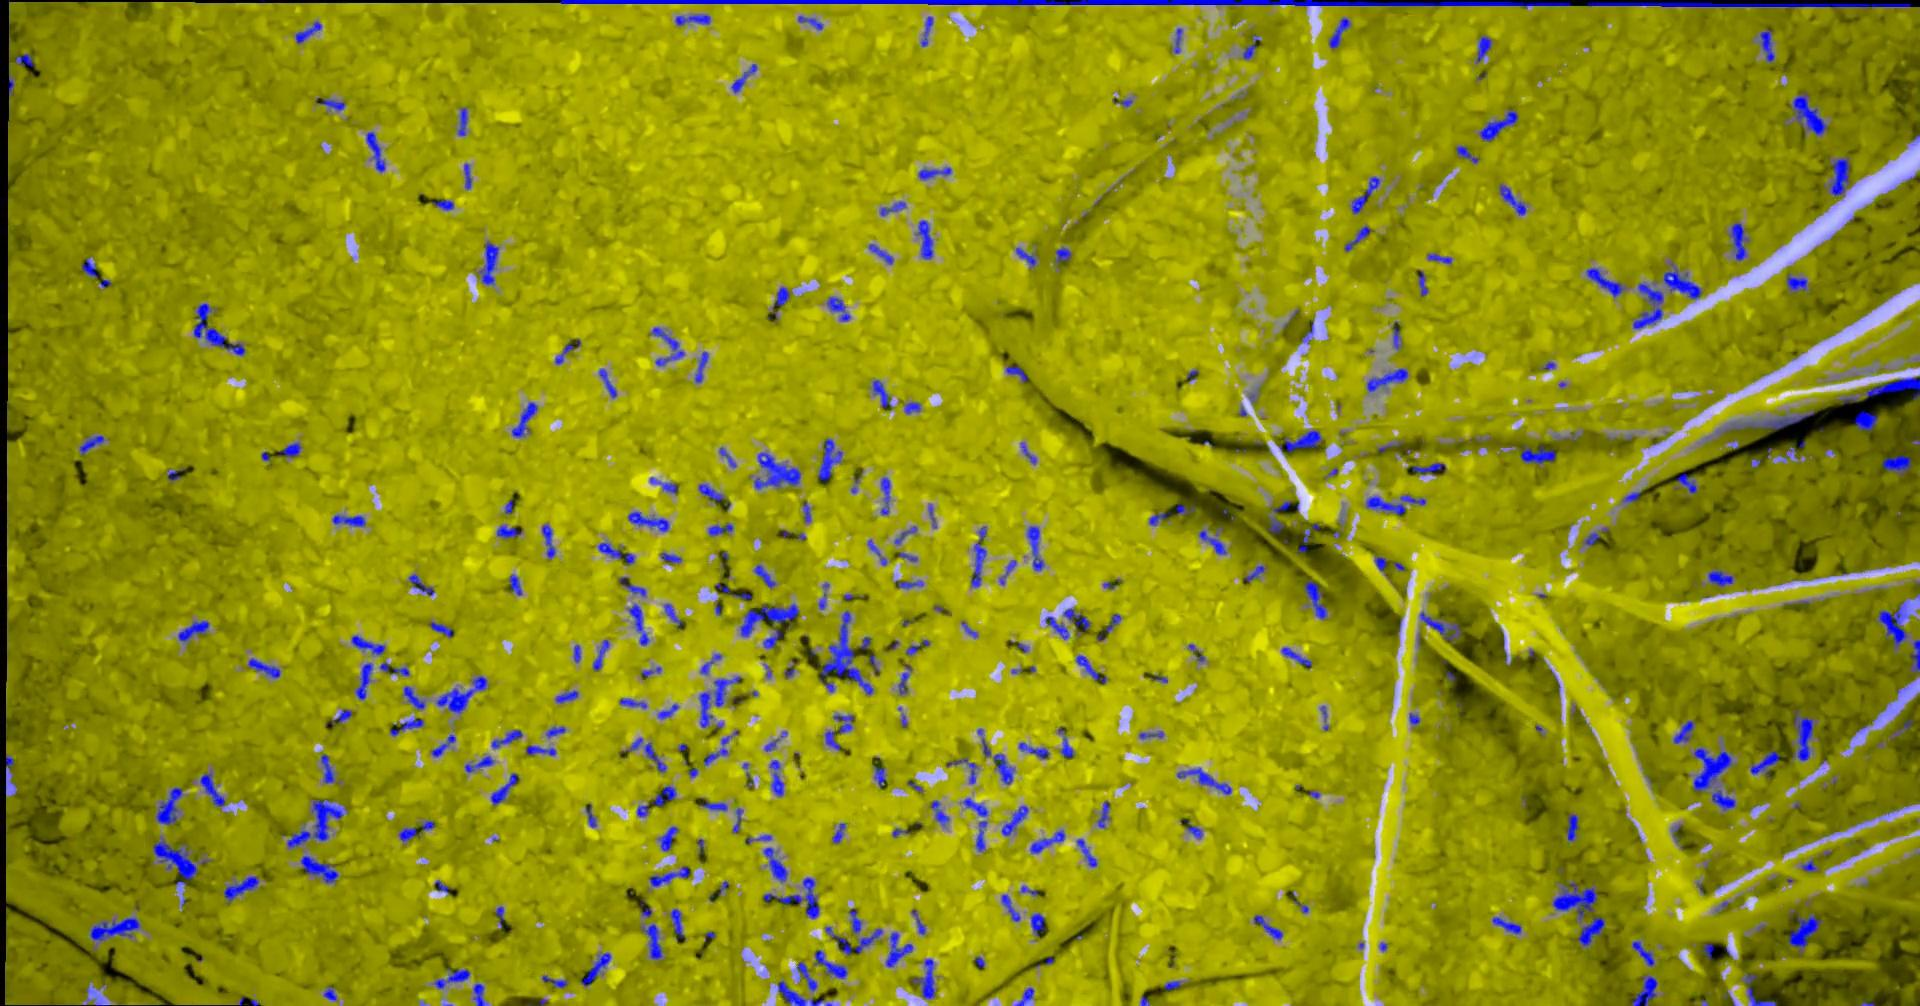ant: (286, 799, 343, 847), (193, 304, 244, 354), (740, 603, 797, 648), (762, 876, 818, 918), (698, 676, 740, 727), (977, 728, 1015, 784), (152, 837, 197, 884), (436, 674, 486, 713), (1726, 410, 1815, 431), (1693, 747, 1732, 791), (1552, 882, 1596, 921), (753, 452, 800, 489), (824, 926, 883, 955), (1792, 91, 1827, 135), (1787, 912, 1821, 955), (1176, 767, 1230, 794), (623, 737, 665, 771), (1877, 601, 1907, 648), (1632, 283, 1663, 328), (1418, 611, 1462, 643), (963, 796, 987, 851), (1865, 375, 1919, 399), (651, 326, 684, 365), (1585, 267, 1625, 297), (1365, 494, 1425, 514), (1479, 109, 1517, 141), (1790, 708, 1813, 760), (1663, 268, 1702, 298), (777, 981, 824, 1005), (89, 917, 138, 940), (817, 438, 842, 481), (1351, 175, 1379, 213), (300, 855, 338, 883), (1743, 973, 1777, 1005), (824, 714, 853, 749), (155, 786, 182, 824), (580, 951, 610, 986), (814, 949, 847, 978), (223, 875, 258, 903), (510, 401, 537, 437), (1366, 368, 1407, 391), (970, 526, 985, 587), (912, 958, 935, 998), (885, 932, 912, 967), (1277, 431, 1322, 451), (1303, 579, 1326, 619), (199, 772, 225, 807), (1750, 749, 1779, 779), (1498, 184, 1526, 215), (1076, 655, 1106, 683), (490, 774, 517, 805), (1030, 829, 1064, 854), (763, 847, 787, 882), (649, 866, 690, 887), (479, 241, 498, 285), (703, 735, 731, 765), (1577, 916, 1604, 946), (629, 511, 668, 531), (629, 603, 648, 645), (597, 542, 634, 564), (1197, 526, 1225, 554), (1001, 805, 1027, 835), (1829, 158, 1849, 196), (1026, 525, 1043, 570), (1630, 976, 1656, 1005), (946, 758, 977, 782), (1730, 222, 1749, 260), (366, 131, 383, 171), (641, 923, 662, 959), (1343, 225, 1370, 251), (554, 338, 580, 365), (1253, 915, 1283, 939), (1519, 445, 1556, 464), (434, 968, 469, 988), (177, 620, 208, 641), (248, 657, 279, 678), (731, 64, 756, 91), (1297, 523, 1319, 553), (1881, 453, 1911, 475), (1280, 647, 1310, 668), (350, 635, 385, 654), (1328, 17, 1349, 48), (1096, 614, 1120, 640), (1630, 940, 1655, 967), (916, 220, 932, 258), (825, 296, 850, 321), (1063, 608, 1090, 631), (389, 718, 423, 735), (356, 662, 372, 699), (1076, 838, 1097, 866), (796, 962, 817, 991), (491, 729, 522, 748), (295, 22, 321, 43), (771, 287, 789, 319), (430, 734, 455, 757), (618, 575, 645, 596), (592, 639, 610, 669), (872, 379, 891, 406), (1045, 616, 1068, 639), (869, 243, 893, 264), (1853, 409, 1877, 431), (651, 785, 676, 807), (1710, 789, 1735, 810), (598, 368, 616, 398), (463, 754, 493, 772), (1492, 916, 1521, 934), (408, 574, 433, 594), (770, 760, 783, 796), (1057, 727, 1073, 757), (403, 686, 424, 709), (1672, 720, 1694, 743), (1759, 29, 1774, 61), (79, 434, 104, 453), (663, 603, 682, 629), (930, 800, 949, 826), (658, 826, 677, 851), (1018, 742, 1048, 758), (1001, 894, 1018, 921), (700, 653, 721, 674), (754, 564, 775, 587), (541, 525, 555, 558), (698, 483, 724, 500), (649, 478, 678, 493), (695, 351, 709, 382), (1707, 569, 1733, 586), (378, 661, 409, 674), (918, 166, 951, 179), (325, 709, 350, 725), (670, 908, 683, 941), (1676, 473, 1697, 493), (315, 97, 344, 111), (674, 14, 710, 25), (1476, 36, 1491, 62), (1455, 145, 1478, 163), (1004, 365, 1027, 382), (1410, 462, 1445, 474), (1180, 819, 1203, 837), (1242, 34, 1258, 58), (320, 754, 334, 782), (1015, 246, 1035, 265), (999, 559, 1015, 584), (894, 525, 916, 542), (331, 514, 364, 526), (880, 478, 890, 514), (879, 201, 905, 215), (919, 17, 932, 46), (277, 442, 301, 457), (905, 639, 930, 654), (1030, 912, 1045, 936), (898, 666, 910, 694), (429, 621, 452, 636), (1893, 718, 1912, 735), (797, 15, 822, 29), (497, 525, 521, 539), (910, 909, 924, 934), (719, 447, 735, 467), (1909, 639, 1919, 672), (1785, 274, 1807, 290), (657, 702, 678, 718), (1566, 814, 1578, 840), (1148, 511, 1171, 525), (1015, 987, 1032, 1005), (397, 827, 419, 841), (81, 258, 97, 277), (1244, 565, 1263, 580), (555, 690, 578, 702), (872, 765, 885, 788), (1097, 801, 1109, 827), (541, 976, 566, 987), (457, 107, 467, 135), (830, 823, 844, 843), (709, 523, 733, 535), (472, 983, 485, 1005), (818, 582, 828, 608), (524, 746, 555, 754), (848, 909, 860, 932), (698, 801, 728, 810), (731, 807, 742, 832), (1267, 517, 1283, 533), (1189, 644, 1204, 661), (618, 699, 646, 708), (1427, 253, 1451, 263), (1417, 271, 1427, 295), (585, 803, 596, 827), (14, 53, 33, 66), (1055, 246, 1070, 262), (509, 574, 521, 594), (432, 199, 453, 210), (1622, 490, 1641, 502), (1271, 500, 1290, 512), (895, 580, 923, 588), (1801, 859, 1816, 873), (1702, 942, 1714, 959), (1175, 504, 1195, 514), (545, 727, 565, 737), (1175, 27, 1182, 53), (463, 163, 471, 189), (1392, 321, 1399, 348), (323, 984, 337, 998), (168, 467, 183, 480), (1583, 532, 1599, 545), (1138, 730, 1163, 738), (660, 553, 681, 561), (904, 401, 919, 413), (1374, 556, 1385, 572), (1163, 981, 1181, 989), (803, 500, 810, 521), (573, 644, 580, 662), (636, 804, 648, 815)
